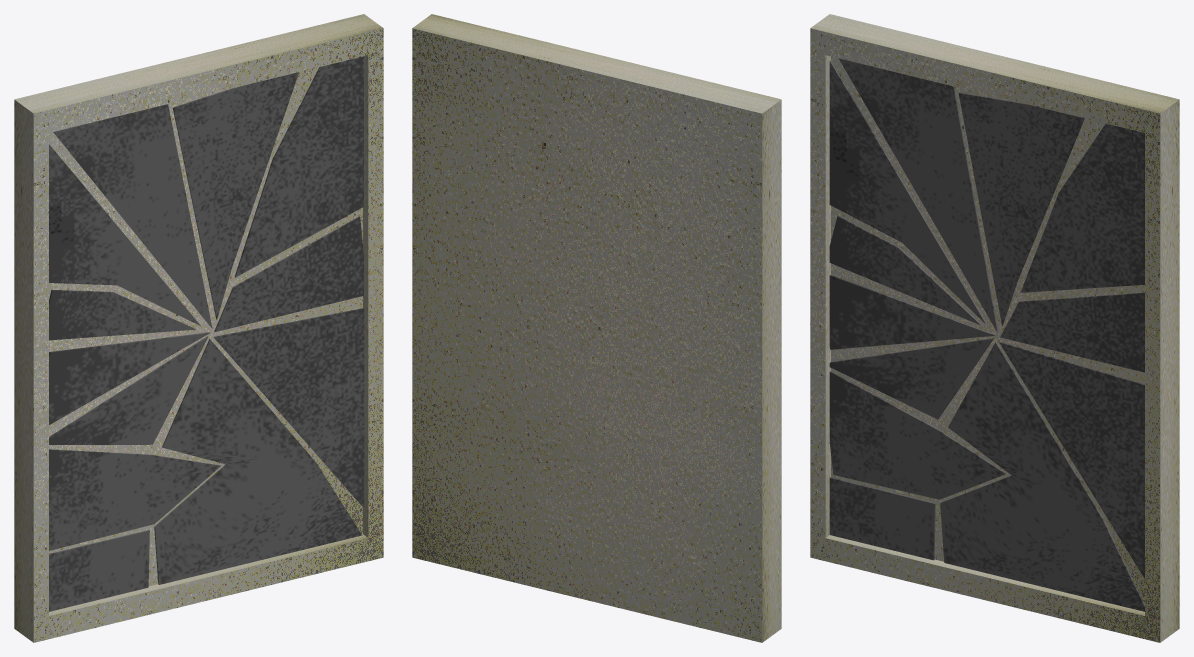
Rendered from mirror.glb.
3 renders of one model, left to right at view 1: azimuth 30°, elevation 25°; view 2: azimuth 150°, elevation 25°; view 3: azimuth 330°, elevation 25°, orthographic.
Visible parts, largest first — view 1: env_mirror-col; view 2: env_mirror-col; view 3: env_mirror-col.
Part boxes in pixels (<box>): env_mirror-col: <box>14,14,383,642</box>; env_mirror-col: <box>412,14,781,642</box>; env_mirror-col: <box>810,14,1179,642</box>.
Size of the model in its own units: 0.7335 by 1.06 by 0.0709.
2 materials, 2 textured.
